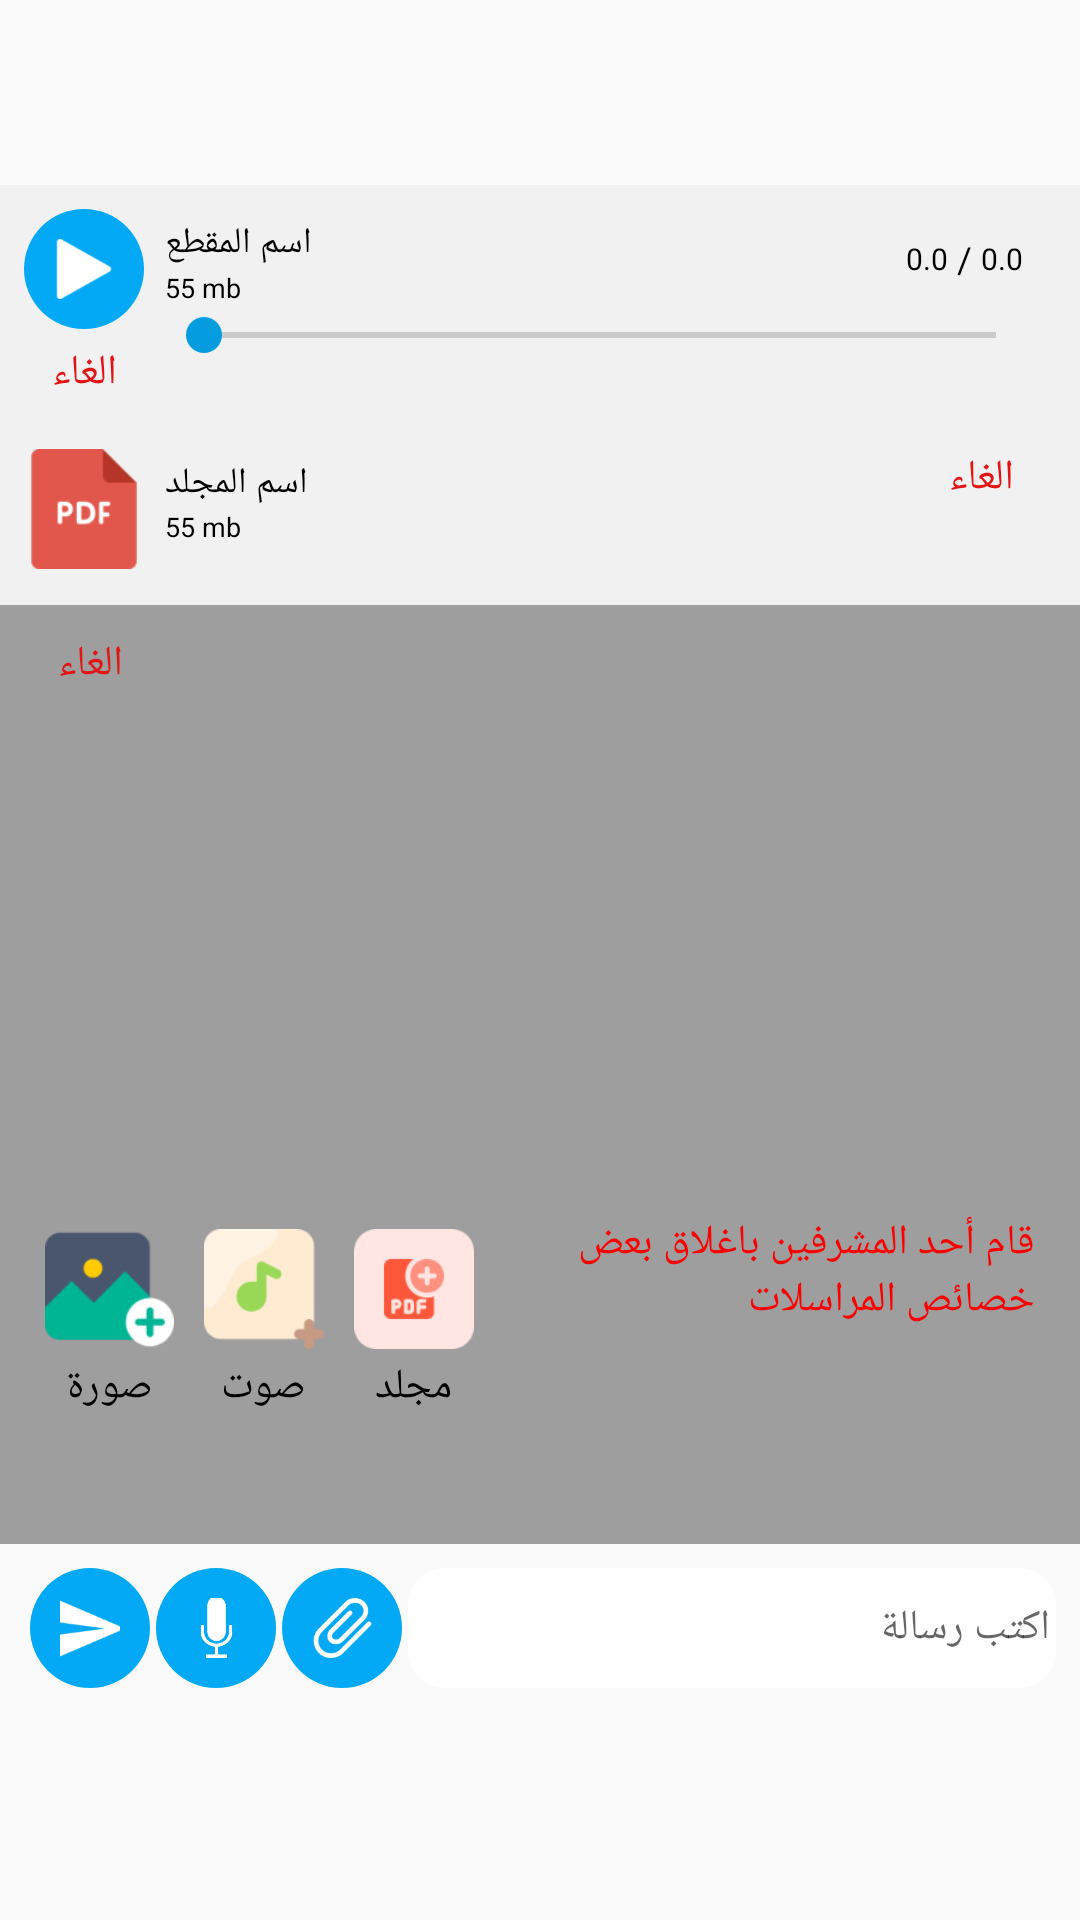

Named icons in this screenshot (1080 x 1920) and their centers, (x=x, y=y):
add pdf: (x=414, y=1289)
media: (x=342, y=1628)
mice: (x=217, y=1628)
play audio: (x=84, y=269)
send: (x=90, y=1628)
